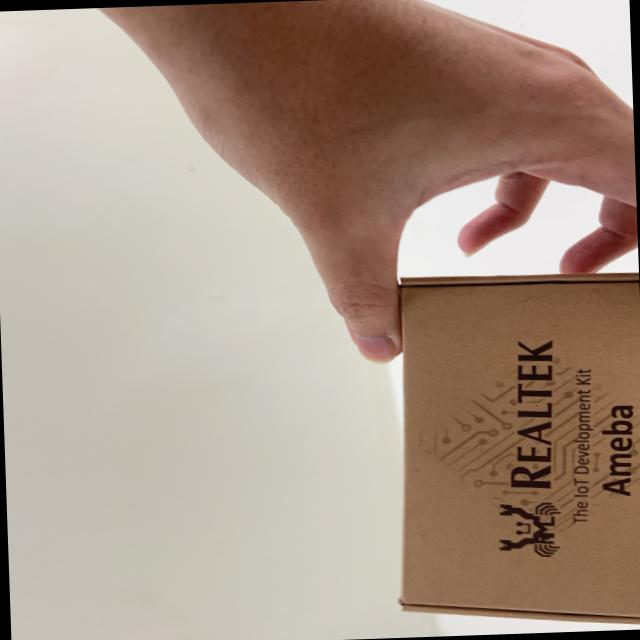box: (345, 251, 640, 639)
